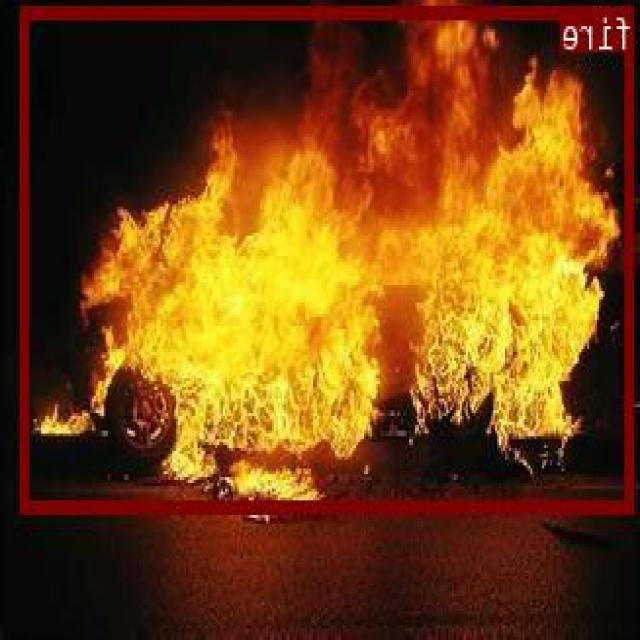fire: (23, 3, 636, 510)
